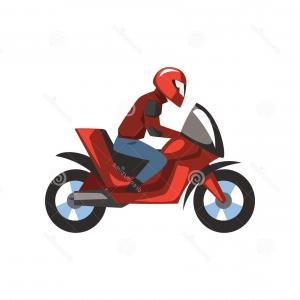with_helmet: (152, 64, 189, 110)
